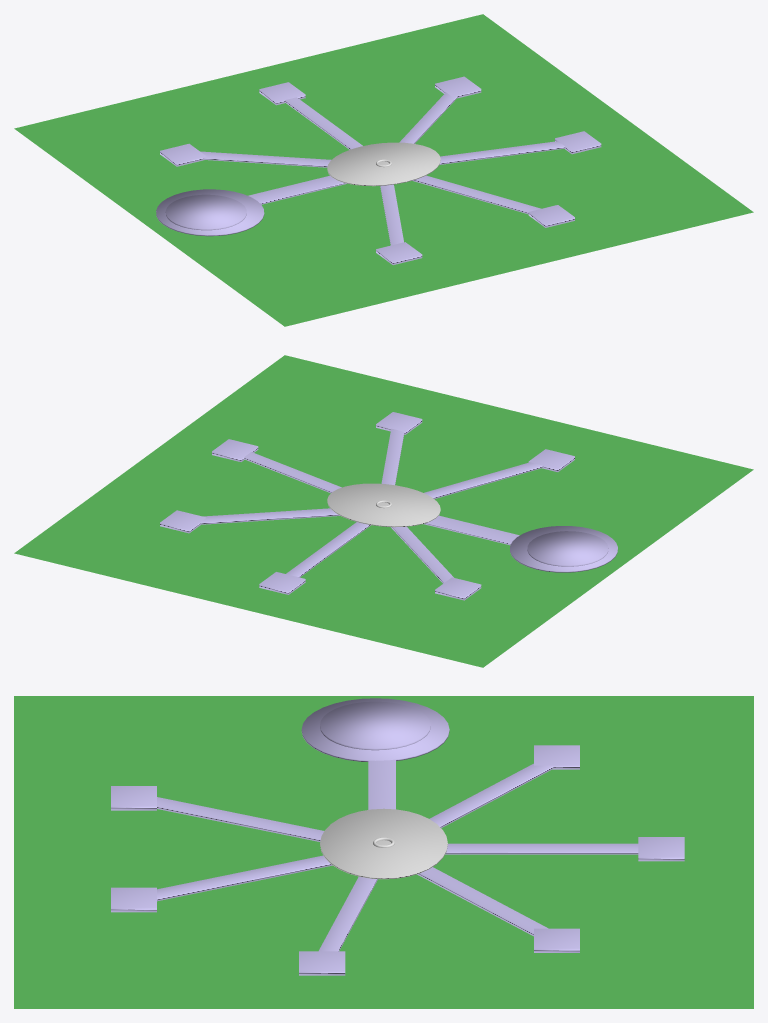
File: test3_nice.glb
3 renders of one model, top to bottom at view 1: azimuth 30°, elevation 25°; view 2: azimuth 150°, elevation 25°; view 3: azimuth 270°, elevation 25°, orthographic. The views are drawn at different scales.
Visible parts, largest first — view 1: Ground, CentralCircle, StartPlatform, StartStep_2, Path_3, Path_6, Path_2, MainPath, Path_0, Path_4, Path_1, Altar_3 (+5 smaller); view 2: Ground, CentralCircle, StartPlatform, StartStep_2, Path_1, Path_4, MainPath, Path_0, Path_2, Path_6, Path_3, Altar_0 (+5 smaller); view 3: Ground, CentralCircle, StartPlatform, StartStep_2, Path_0, Path_3, Path_4, Path_1, Path_6, Path_2, MainPath, Altar_3 (+5 smaller).
Part boxes in pixels (bbox=[...]): Ground: bbox=[14, 14, 753, 326]; CentralCircle: bbox=[327, 142, 440, 186]; StartPlatform: bbox=[165, 194, 246, 230]; StartStep_2: bbox=[156, 189, 264, 236]; Path_3: bbox=[412, 175, 540, 214]; Path_6: bbox=[200, 151, 330, 167]; Path_2: bbox=[439, 141, 564, 164]; MainPath: bbox=[248, 175, 346, 204]; Path_0: bbox=[285, 97, 362, 149]; Path_4: bbox=[380, 184, 403, 245]; Path_1: bbox=[399, 92, 457, 143]; Altar_3: bbox=[528, 205, 574, 227]; Ground: bbox=[14, 355, 753, 667]; CentralCircle: bbox=[327, 483, 440, 527]; StartPlatform: bbox=[527, 531, 608, 566]; StartStep_2: bbox=[510, 526, 617, 572]; Path_1: bbox=[200, 508, 340, 524]; Path_4: bbox=[424, 462, 542, 498]; MainPath: bbox=[423, 515, 519, 545]; Path_0: bbox=[286, 522, 370, 577]; Path_2: bbox=[244, 452, 341, 493]; Path_6: bbox=[391, 526, 453, 583]; Path_3: bbox=[381, 428, 404, 485]; Altar_0: bbox=[259, 572, 305, 594]; Ground: bbox=[14, 696, 753, 1008]; CentralCircle: bbox=[320, 808, 447, 879]; StartPlatform: bbox=[320, 701, 430, 750]; StartStep_2: bbox=[301, 698, 449, 761]; Path_0: bbox=[445, 843, 638, 854]; Path_3: bbox=[157, 855, 332, 901]; Path_4: bbox=[157, 797, 324, 841]; Path_1: bbox=[417, 867, 548, 936]; Path_6: bbox=[429, 763, 553, 828]; Path_2: bbox=[319, 876, 377, 951]; MainPath: bbox=[368, 759, 395, 809]; Altar_3: bbox=[111, 887, 156, 912].
Bounding box in the file's own units: 40 × 0.65 × 40.
